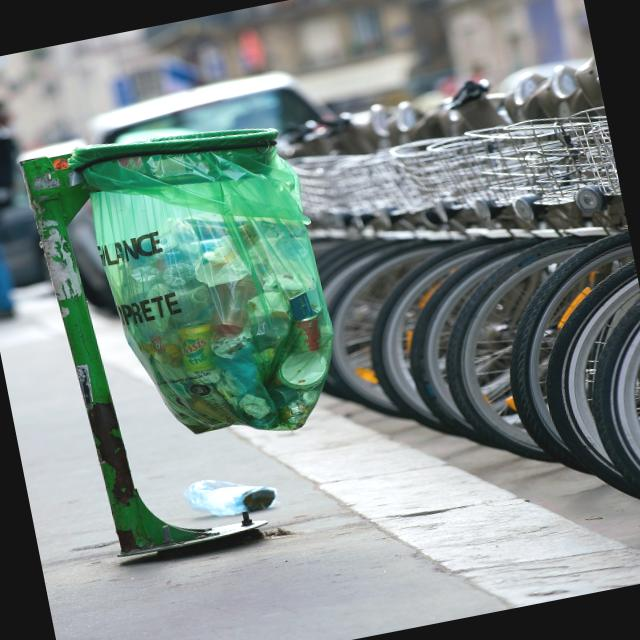garbage: (55, 92, 361, 465)
